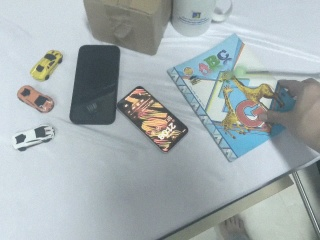book: (164, 31, 315, 166)
box: (84, 1, 173, 57)
cup: (168, 1, 234, 40)
phone: (118, 85, 188, 154), (69, 44, 120, 127)
toy_car: (11, 125, 55, 151), (17, 84, 55, 114), (30, 49, 63, 81)
